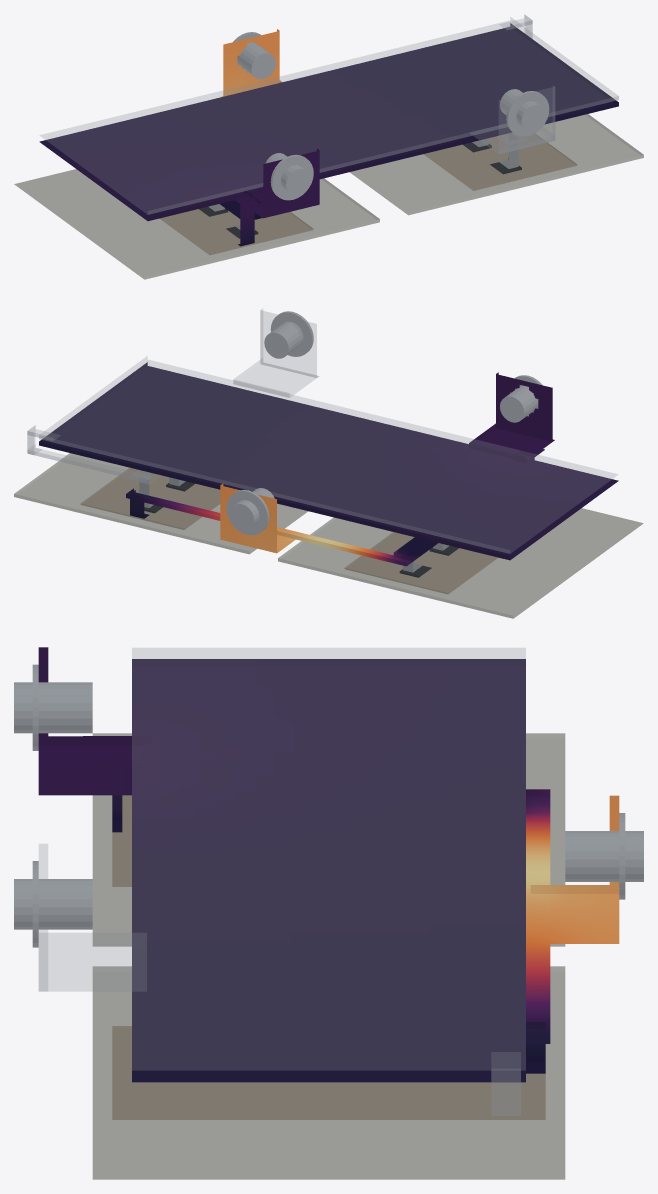
The model's file is busbar-default.glb.
3 views of the same model, one above another, from view 1: azimuth 30°, elevation 25°; view 2: azimuth 150°, elevation 25°; view 3: azimuth 270°, elevation 25° (orthographic). The views are drawn at different scales.
Parts seen in each view (by area): view 1: p-layer, n-layer, context, ac-link, n-layer-bolt, p-layer-bolt, ac-link-bolt; view 2: n-layer, p-layer, context, ac-link, n-layer-bolt, ac-link-bolt, p-layer-bolt; view 3: n-layer, p-layer, context, ac-link, p-layer-bolt, ac-link-bolt, n-layer-bolt.
Part boxes in pixels (bbox=[...]): p-layer: bbox=[39, 23, 618, 246]; n-layer: bbox=[40, 14, 618, 214]; context: bbox=[14, 114, 643, 279]; ac-link: bbox=[220, 29, 282, 219]; n-layer-bolt: bbox=[500, 89, 549, 136]; p-layer-bolt: bbox=[265, 153, 313, 200]; ac-link-bolt: bbox=[233, 32, 275, 79]; n-layer: bbox=[27, 309, 617, 553]; p-layer: bbox=[39, 362, 618, 560]; context: bbox=[14, 453, 643, 618]; ac-link: bbox=[126, 483, 437, 566]; n-layer-bolt: bbox=[264, 311, 313, 358]; ac-link-bolt: bbox=[226, 488, 274, 535]; p-layer-bolt: bbox=[500, 375, 542, 422]; n-layer: bbox=[38, 648, 525, 1115]; p-layer: bbox=[38, 647, 525, 1082]; context: bbox=[92, 733, 565, 1179]; ac-link: bbox=[526, 789, 619, 1073]; p-layer-bolt: bbox=[14, 664, 92, 750]; ac-link-bolt: bbox=[565, 813, 643, 899]; n-layer-bolt: bbox=[14, 861, 92, 947].
Bounding box in the file's own units: 0.106 × 0.0222 × 0.064.
